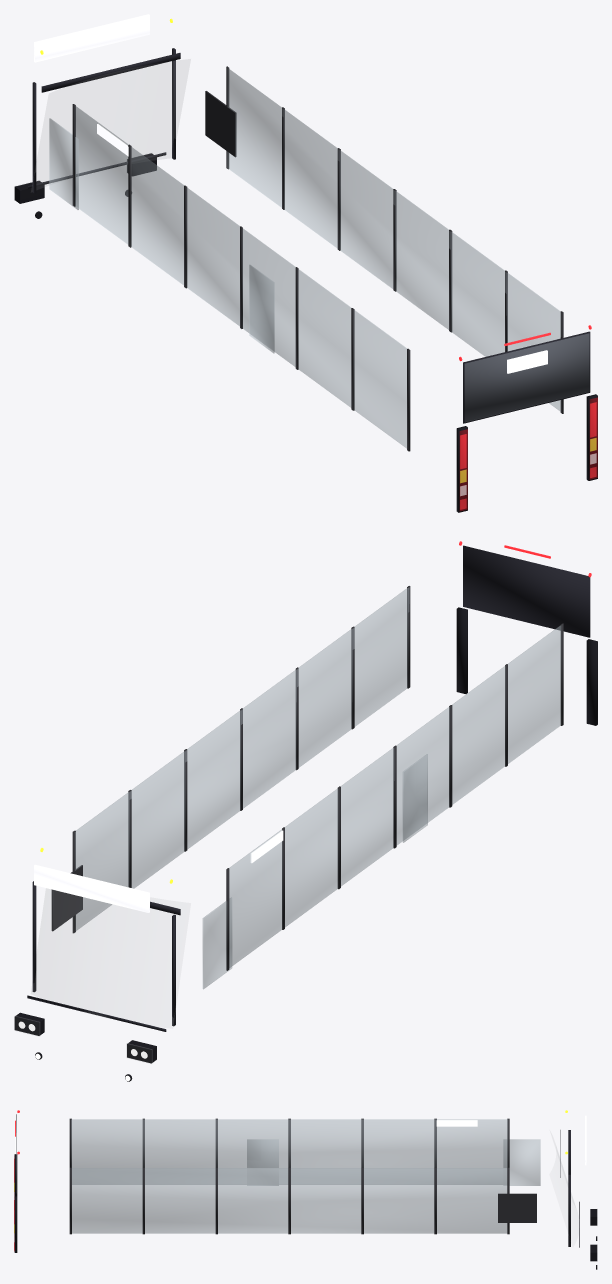
The model's file is lighting_glass.glb.
3 renders of one model, top to bottom at view 1: azimuth 30°, elevation 25°; view 2: azimuth 150°, elevation 25°; view 3: azimuth 270°, elevation 25°, orthographic. The views are drawn at different scales.
Parts seen in each view (by area): view 1: GLASS_Side_Passenger_Ribbon_R, GLASS_Side_Passenger_Ribbon_L, GLASS_Panoramic_Windshield, GLASS_Rear_Backlight_Frit_Mask, GLASS_Rear_Backlight_Window, LIGHT_Destination_Matrix_Sign_Front, DOOR_Front_Coach_Window_Pane, DOOR_Mid_Emergency_Window_Pane, GLASS_Driver_Toll_Window_Frame, GLASS_Windshield_Frit_Top_Sunband, LIGHT_Rear_Taillight_CoverLens_L, LIGHT_Rear_Taillight_CoverLens_R; view 2: GLASS_Side_Passenger_Ribbon_R, GLASS_Side_Passenger_Ribbon_L, GLASS_Panoramic_Windshield, GLASS_Rear_Backlight_Frit_Mask, LIGHT_Destination_Matrix_Sign_Front, DOOR_Front_Coach_Window_Pane, DOOR_Mid_Emergency_Window_Pane, LIGHT_Rear_Taillight_Housing_L, LIGHT_Rear_Taillight_Housing_R, GLASS_Driver_Toll_Window_Frame; view 3: GLASS_Side_Passenger_Ribbon_L, GLASS_Side_Passenger_Ribbon_R, DOOR_Front_Coach_Window_Pane, GLASS_Driver_Toll_Window_Frame, GLASS_Panoramic_Windshield, DOOR_Mid_Emergency_Window_Pane, LIGHT_Destination_Matrix_Sign_Side.
Boxes of the visible parts, box(x1,y1,x2,y2) form: GLASS_Side_Passenger_Ribbon_R: box(75, 106, 407, 448); GLASS_Side_Passenger_Ribbon_L: box(227, 69, 560, 411); GLASS_Panoramic_Windshield: box(31, 59, 190, 191); GLASS_Rear_Backlight_Frit_Mask: box(463, 331, 590, 423); GLASS_Rear_Backlight_Window: box(465, 333, 589, 422); LIGHT_Destination_Matrix_Sign_Front: box(34, 14, 149, 62); DOOR_Front_Coach_Window_Pane: box(49, 118, 78, 209); DOOR_Mid_Emergency_Window_Pane: box(249, 265, 274, 353); GLASS_Driver_Toll_Window_Frame: box(205, 91, 236, 157); GLASS_Windshield_Frit_Top_Sunband: box(41, 53, 180, 92); LIGHT_Rear_Taillight_CoverLens_L: box(589, 397, 597, 479); LIGHT_Rear_Taillight_CoverLens_R: box(459, 429, 467, 511); GLASS_Side_Passenger_Ribbon_R: box(229, 625, 560, 967); GLASS_Side_Passenger_Ribbon_L: box(75, 588, 409, 931); GLASS_Panoramic_Windshield: box(31, 889, 190, 1028); GLASS_Rear_Backlight_Frit_Mask: box(463, 545, 590, 637); LIGHT_Destination_Matrix_Sign_Front: box(34, 864, 149, 912); DOOR_Front_Coach_Window_Pane: box(202, 897, 232, 989); DOOR_Mid_Emergency_Window_Pane: box(403, 754, 427, 842); LIGHT_Rear_Taillight_Housing_L: box(456, 607, 467, 693); LIGHT_Rear_Taillight_Housing_R: box(586, 639, 597, 725); GLASS_Driver_Toll_Window_Frame: box(51, 865, 82, 931); GLASS_Side_Passenger_Ribbon_L: box(72, 1168, 507, 1233); GLASS_Side_Passenger_Ribbon_R: box(71, 1119, 507, 1184); DOOR_Front_Coach_Window_Pane: box(503, 1139, 540, 1185); GLASS_Driver_Toll_Window_Frame: box(498, 1193, 536, 1222); GLASS_Panoramic_Windshield: box(550, 1134, 578, 1246); DOOR_Mid_Emergency_Window_Pane: box(247, 1139, 278, 1185); LIGHT_Destination_Matrix_Sign_Side: box(436, 1119, 477, 1126).
Bounding box in the file's own units: 2.62 × 3.14 × 13.08.
